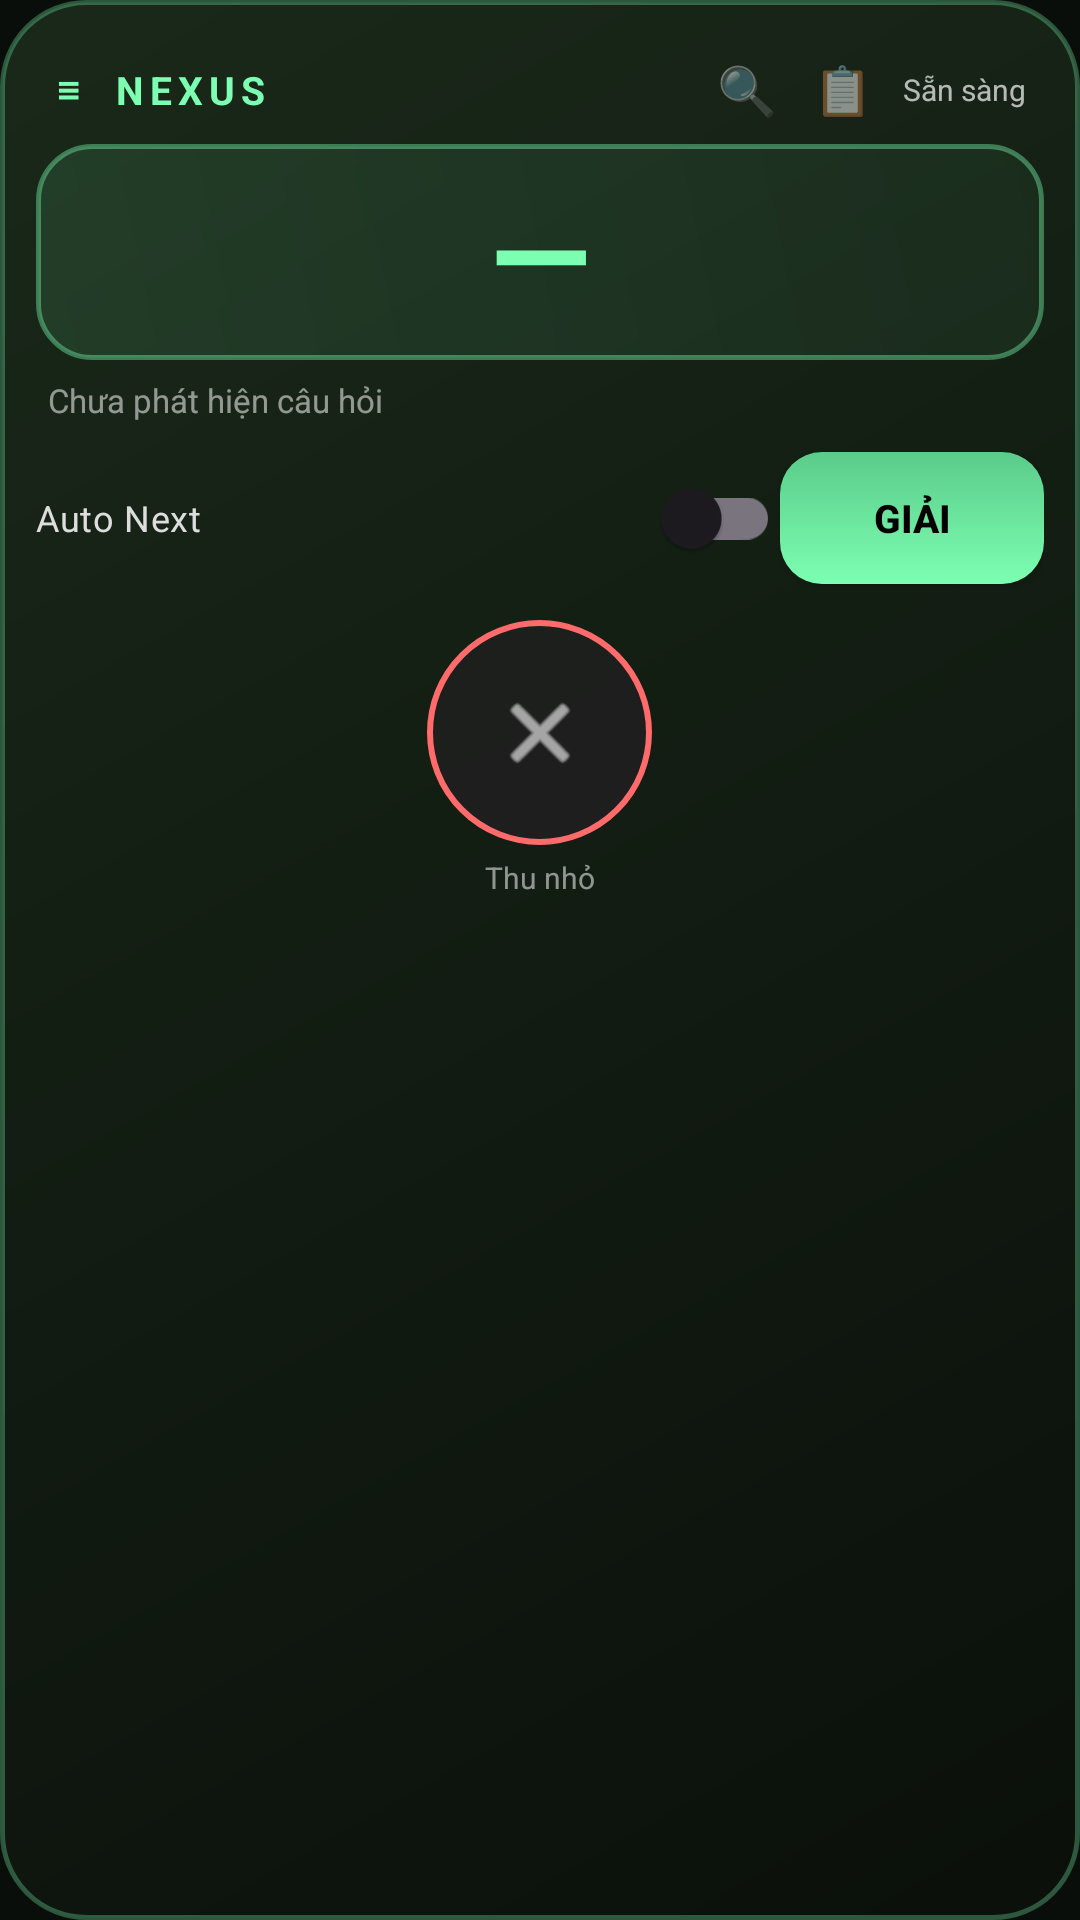

Locate icon controls on the screen. Image size 1080w x 1920h, boxes as (x1, y1, x2, y2).
Đóng HUD: (427, 620, 652, 845)
